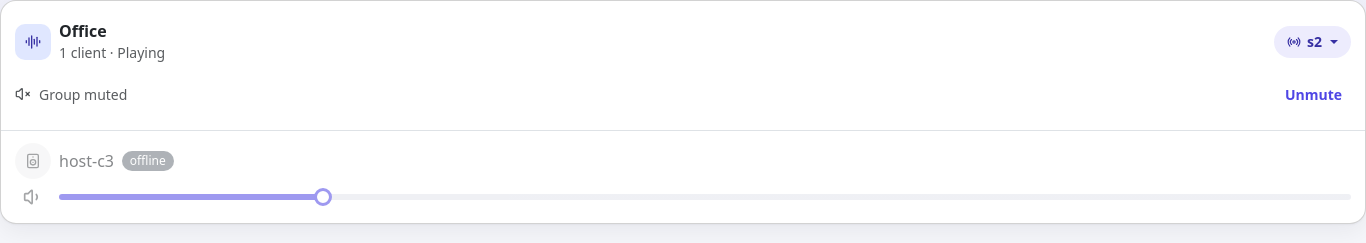
Test: Group › offers to unmute a muted group with one visible client, which the client cannot undo
Check: the text "Group muted" is shown, box [39,85,127,104]
Step 1. Click the button with aria-label "Unmute Office" → [1313, 94], box [1276,79,1351,110]
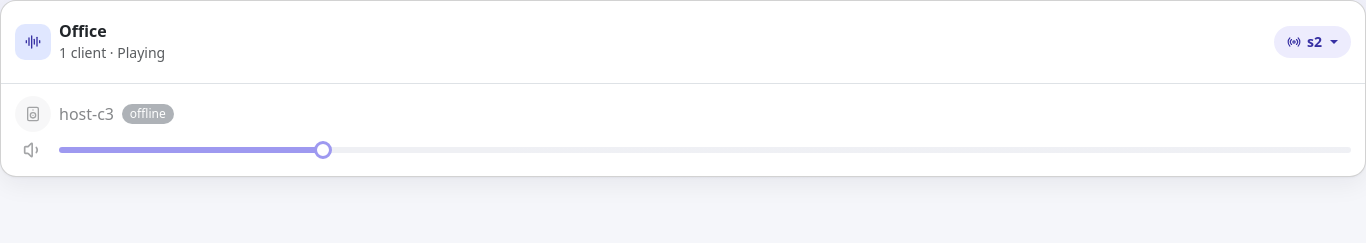
Check: the text "Group muted" is gone
